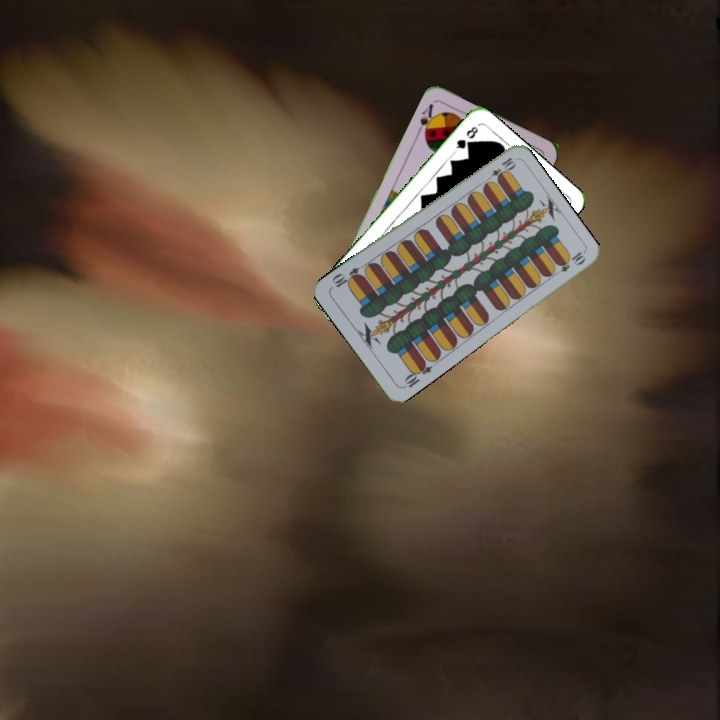E10: (399, 357, 434, 391), (482, 153, 518, 185)
G8: (451, 122, 481, 155)
SA: (413, 99, 439, 139)
